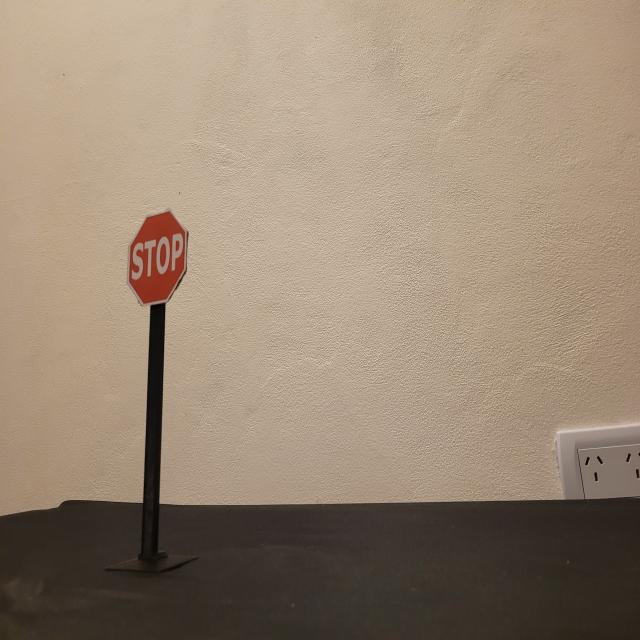stop: (125, 207, 190, 308)
